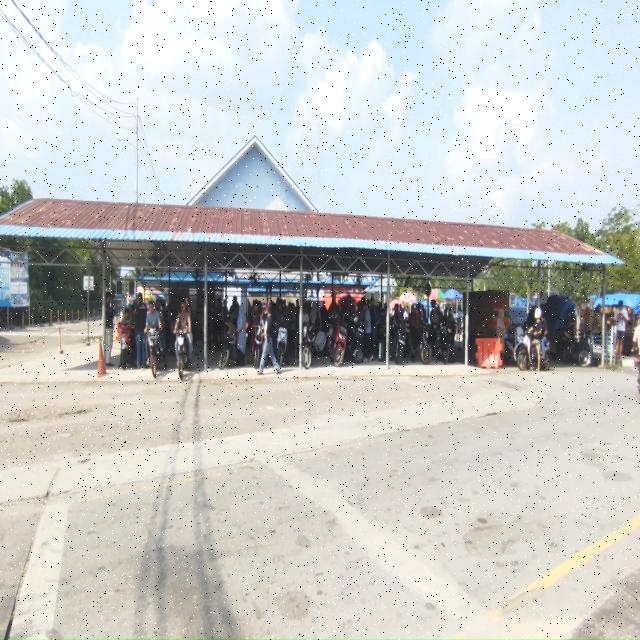Golongan II: (517, 332, 551, 371), (554, 335, 591, 367), (302, 324, 326, 369), (329, 314, 348, 366), (147, 327, 166, 378), (504, 324, 525, 364), (219, 329, 237, 370), (348, 317, 364, 363), (394, 319, 409, 365), (175, 330, 188, 380), (445, 309, 457, 363), (119, 322, 132, 370), (436, 323, 451, 364), (419, 322, 432, 364), (276, 326, 288, 367), (254, 326, 264, 370)
